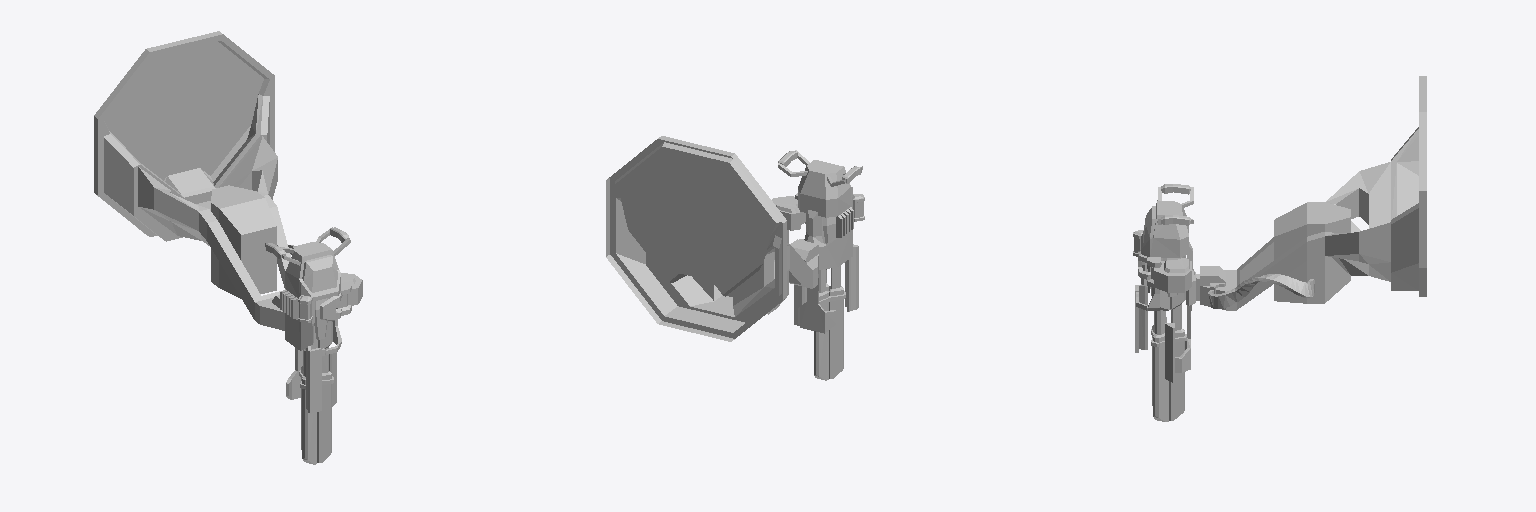
File: cannon.obj
The picture shows the model from 3 angles: view 1: azimuth 30°, elevation 25°; view 2: azimuth 150°, elevation 25°; view 3: azimuth 270°, elevation 25°; orthographic projection.
Bounding box in the file's own units: 1.23 × 2.16 × 1.77.